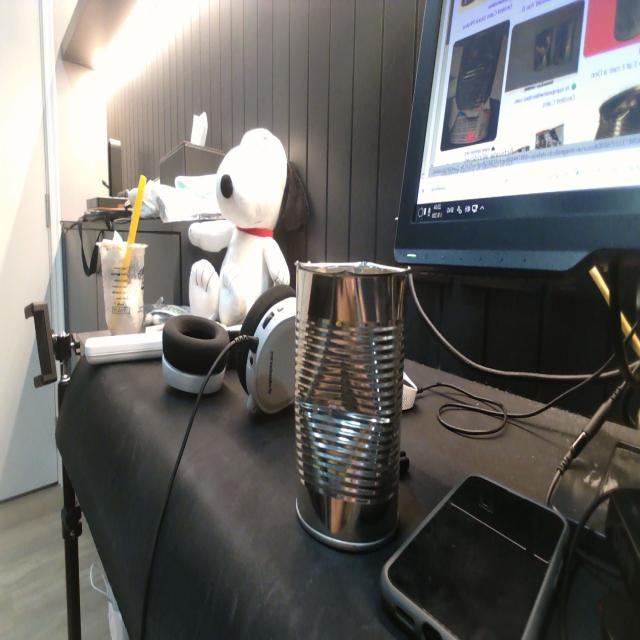metal: (287, 261, 406, 543)
